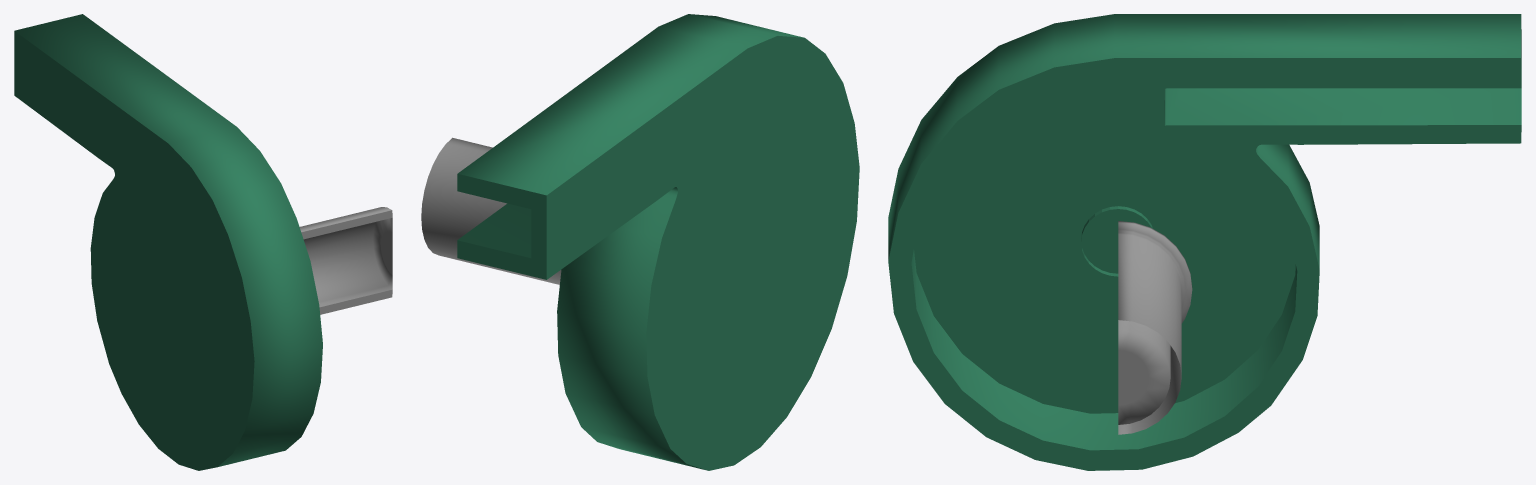
File: pumpcasecut02.glb
The picture shows the model from 3 angles, left to right: view 1: azimuth 30°, elevation 25°; view 2: azimuth 150°, elevation 25°; view 3: azimuth 270°, elevation 25°; orthographic projection. The views are drawn at different scales.
Visible parts, largest first — view 1: Centrifugal pump binary.002, Centrifugal pump binary.005; view 2: Centrifugal pump binary.002, Centrifugal pump binary.005; view 3: Centrifugal pump binary.002, Centrifugal pump binary.005.
Boxes of the visible parts, x1=… form: Centrifugal pump binary.002: x1=14, y1=14, x2=322, y2=470; Centrifugal pump binary.005: x1=299, y1=207, x2=392, y2=314; Centrifugal pump binary.002: x1=457, y1=14, x2=859, y2=470; Centrifugal pump binary.005: x1=421, y1=137, x2=561, y2=284; Centrifugal pump binary.002: x1=888, y1=14, x2=1521, y2=470; Centrifugal pump binary.005: x1=1118, y1=221, x2=1192, y2=434.
Size of the model in its own units: 0.2141 by 0.2845 by 0.3954.
